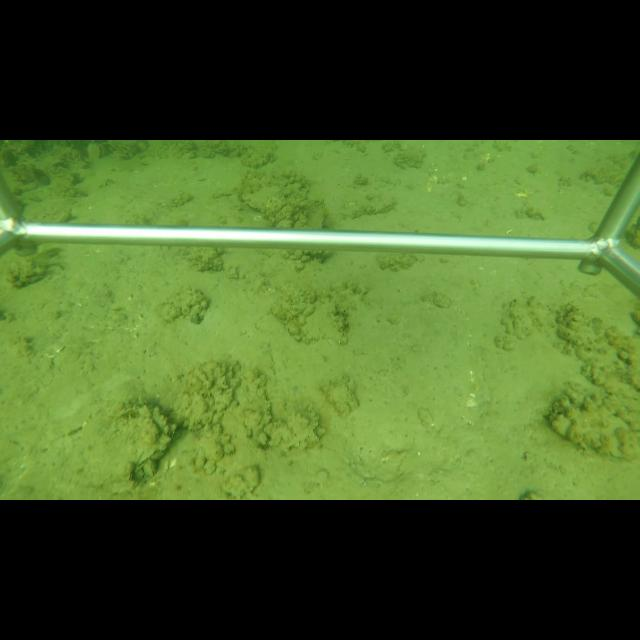Oyster-Closed: (101, 402, 174, 474), (142, 458, 158, 482), (147, 446, 166, 460)
